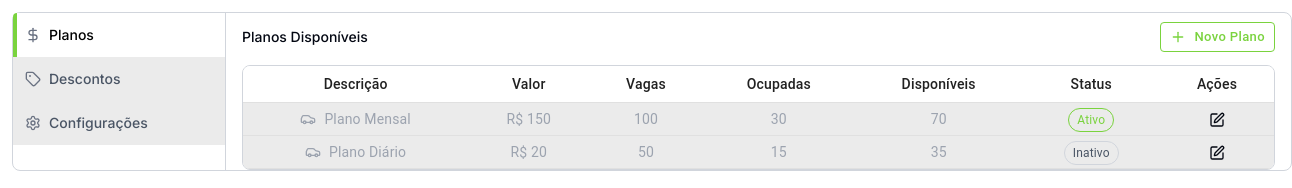
Test: GaragePlansCard › Tab navigation › should switch to discounts tab
The width and height of the screenshot is (1292, 188).
What coordinates should you click on to do the following:
click the button "Descontos"
I would click on:
 (119, 79)
Its box is [13,57,225,101].
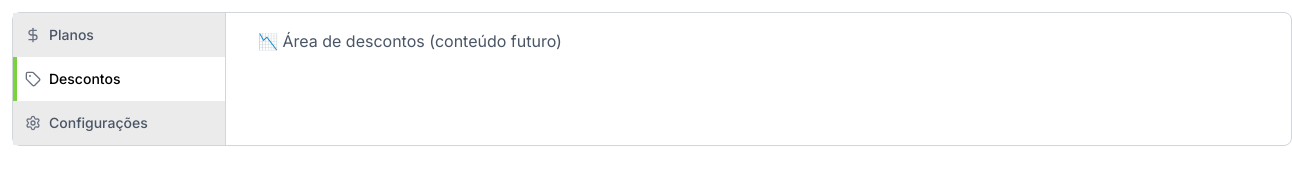
Expected: the text "📉 Área de descontos (conteúdo futuro)" is shown, [258,31,562,51]
Expected: the heading "Planos Disponíveis" is gone
